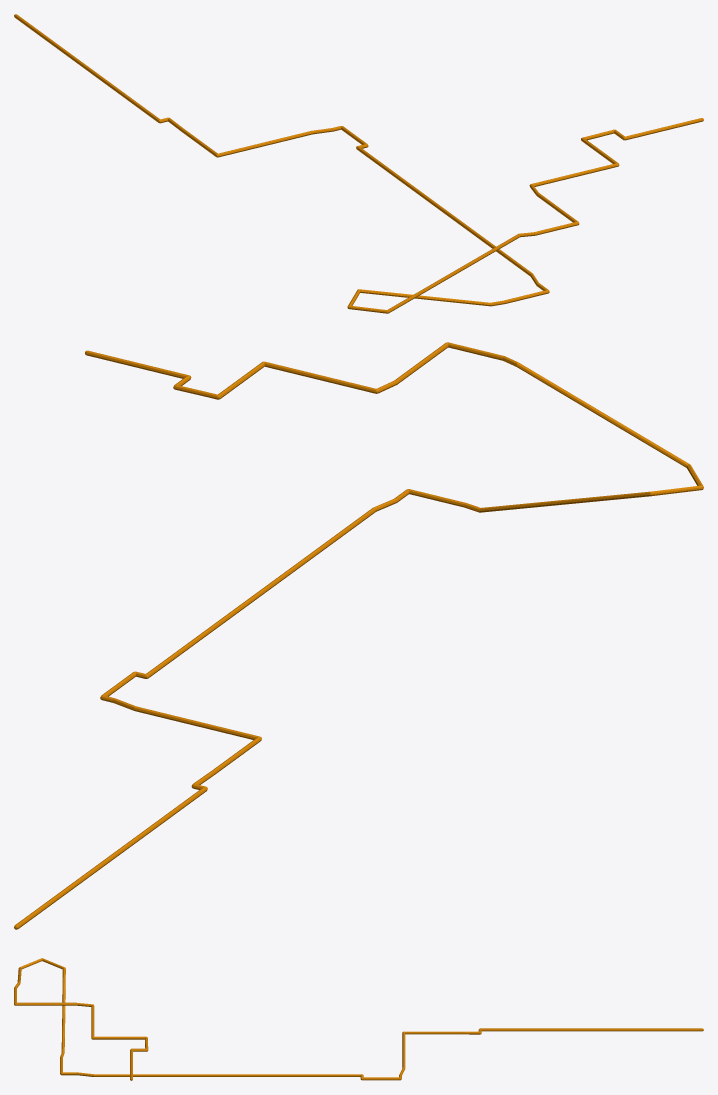
The picture shows the model from 3 angles, top to bottom: view 1: azimuth 30°, elevation 25°; view 2: azimuth 150°, elevation 25°; view 3: azimuth 270°, elevation 25°; orthographic projection. The views are drawn at different scales.
Bounding box in the file's own units: 2406 × 520 × 4501.
